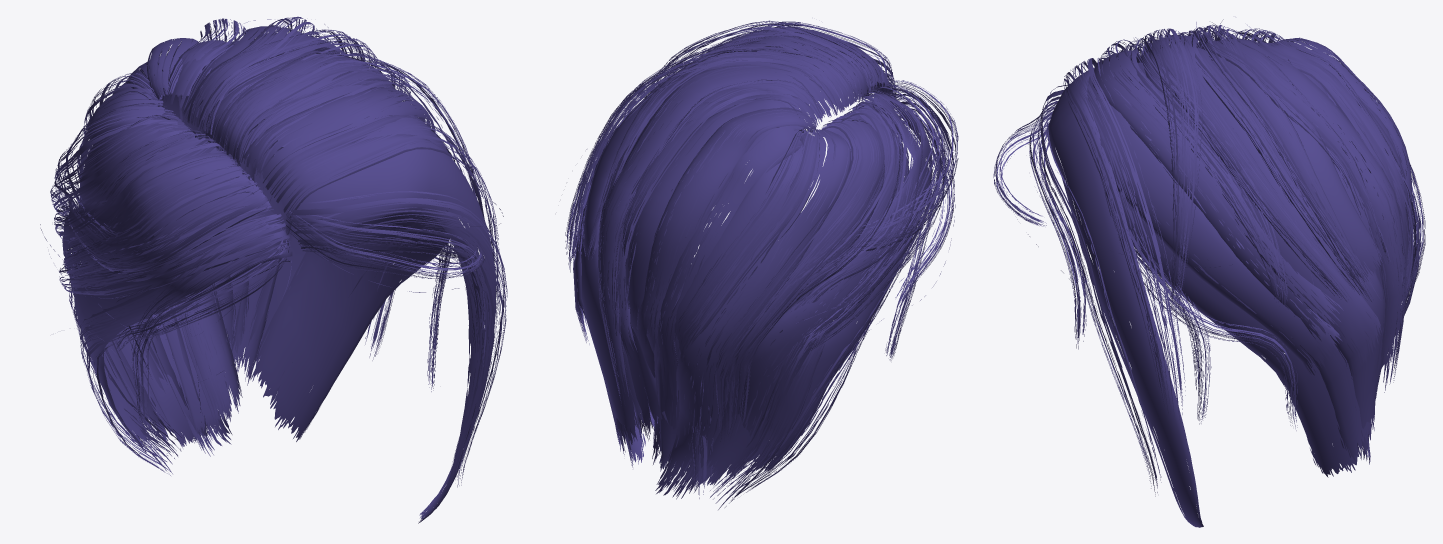
The model's file is Hair_Wig_Female_1A.FBX.
3 views of the same model, side by side, from view 1: azimuth 30°, elevation 25°; view 2: azimuth 150°, elevation 25°; view 3: azimuth 270°, elevation 25° (orthographic). The views are drawn at different scales.
Visible parts, largest first — view 1: Hair_Wig_Female_1A; view 2: Hair_Wig_Female_1A; view 3: Hair_Wig_Female_1A.
Boxes of the visible parts, left/top/right/bottom form: Hair_Wig_Female_1A: left=40, top=16, right=507, bottom=523; Hair_Wig_Female_1A: left=565, top=20, right=958, bottom=509; Hair_Wig_Female_1A: left=993, top=19, right=1425, bottom=527.
Bounding box in the file's own units: 21.78 × 27.72 × 24.33.
